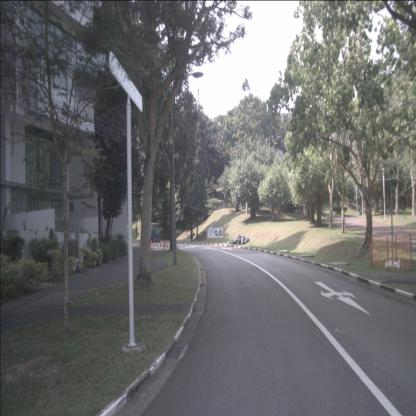movable_object-trafficcone: (150, 239, 153, 246), (166, 239, 168, 248), (163, 238, 165, 247), (160, 239, 162, 247), (153, 238, 155, 246), (156, 239, 158, 246)
vehicle-truck: (143, 223, 162, 242)
